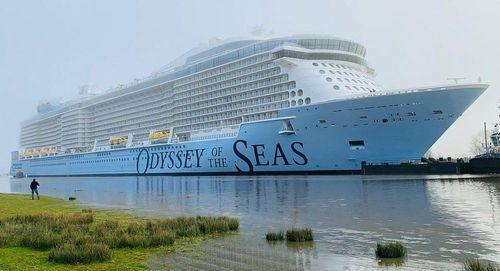Ship: (13, 33, 484, 178)
